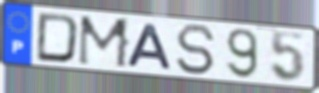5: (267, 31, 307, 85)
9: (223, 27, 260, 80)
A: (126, 22, 175, 72)
D: (34, 11, 82, 65)
M: (76, 14, 133, 71)
S: (174, 23, 217, 77)
